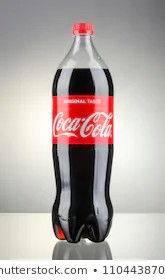coke-bottle-2l: (38, 14, 122, 245)
